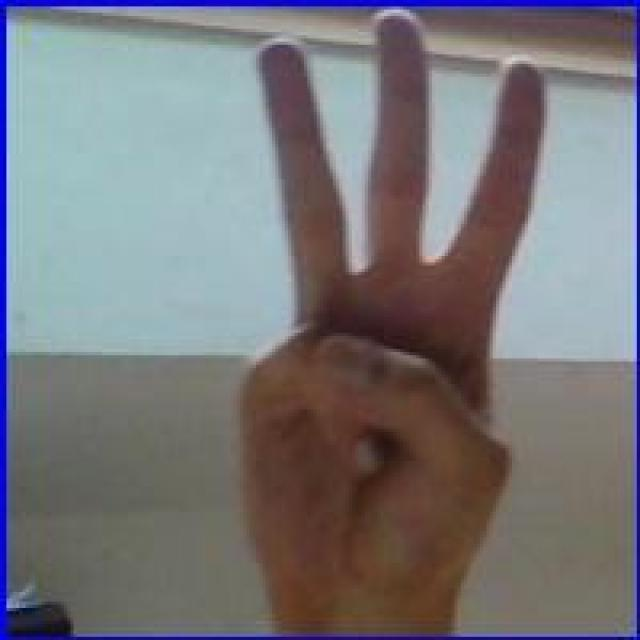W: (213, 9, 552, 602)
